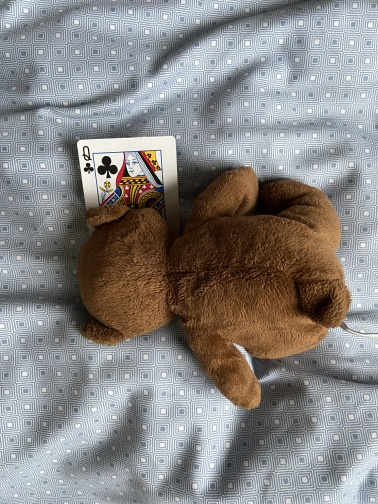queen: (75, 134, 184, 288)
